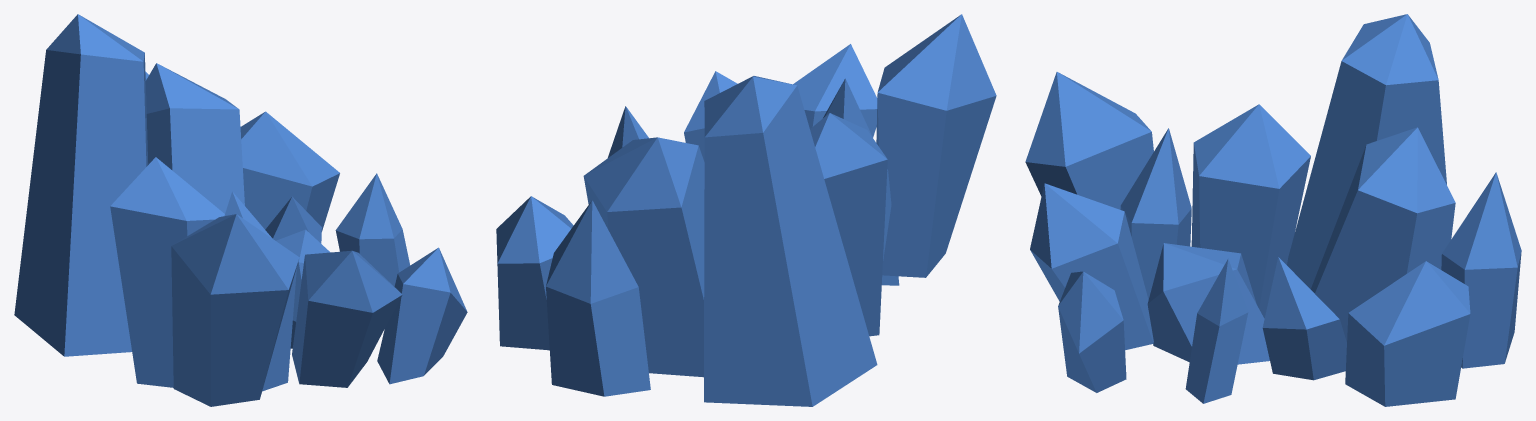
The model's file is mineralanimationtest.glb.
3 renders of one model, left to right at view 1: azimuth 30°, elevation 25°; view 2: azimuth 150°, elevation 25°; view 3: azimuth 270°, elevation 25°, orthographic. The views are drawn at different scales.
Visible parts, largest first — view 1: mineral1mesh; view 2: mineral1mesh; view 3: mineral1mesh.
Part boxes in pixels (x1,y1,x2,y2): mineral1mesh: [14, 14, 467, 406]; mineral1mesh: [496, 14, 996, 406]; mineral1mesh: [1025, 14, 1521, 406].
Bounding box in the file's own units: 1.05 × 0.9519 × 1.45.
